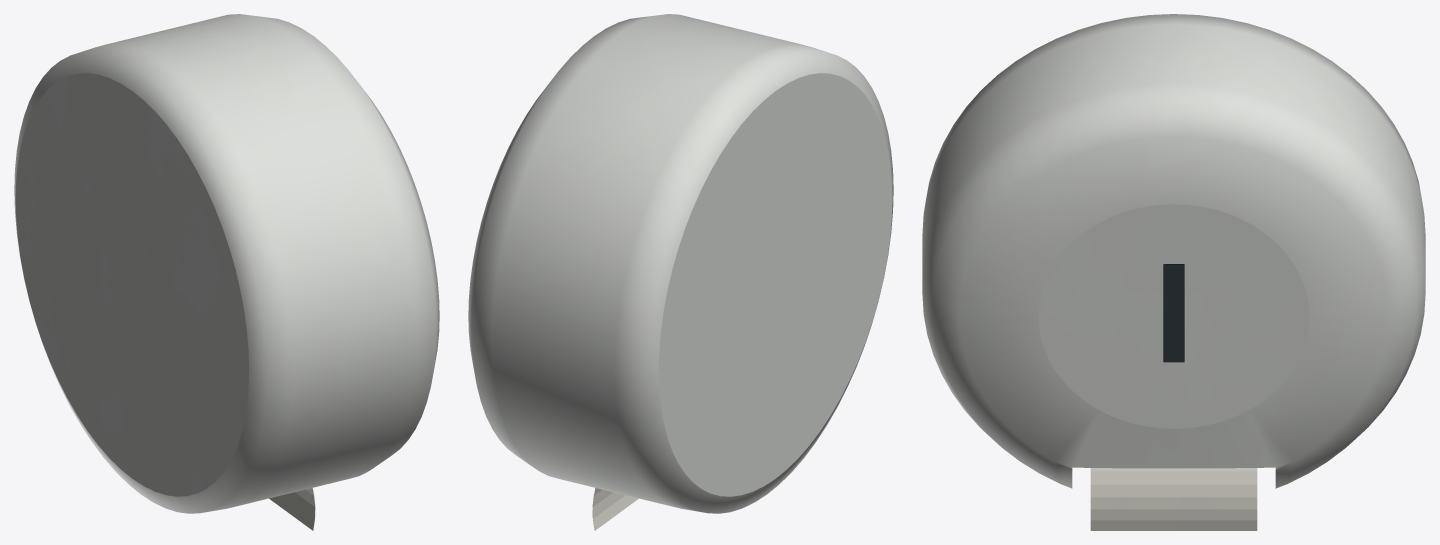
The model's file is papeleira_higienica_realista.glb.
3 renders of one model, left to right at view 1: azimuth 30°, elevation 25°; view 2: azimuth 150°, elevation 25°; view 3: azimuth 270°, elevation 25°, orthographic.
Visible parts, largest first — view 1: Papeleira_higienica; view 2: Papeleira_higienica; view 3: Papeleira_higienica.
Part boxes in pixels (<box>): Papeleira_higienica: <box>14,14,439,530</box>; Papeleira_higienica: <box>468,14,893,530</box>; Papeleira_higienica: <box>922,14,1425,530</box>.
Size of the model in its own units: 0.12 by 0.26 by 0.26.
1 material, 1 textured.
